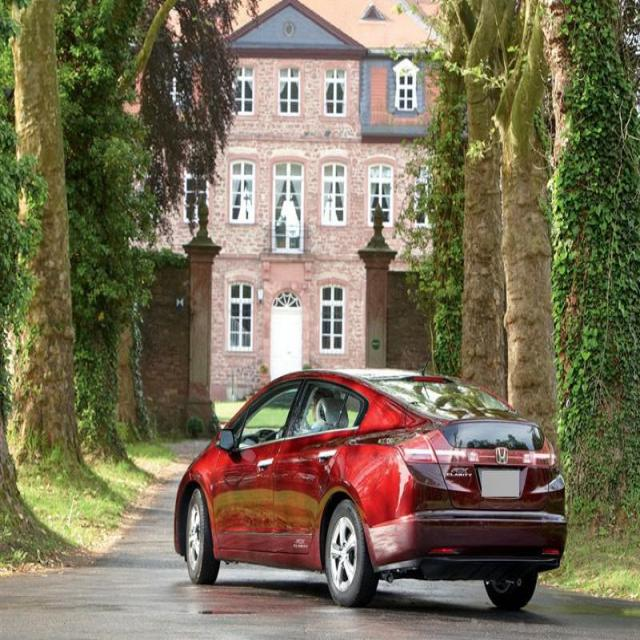back_glass: (364, 377, 518, 419)
back_left_side_light: (394, 432, 440, 468)
back_right_side_light: (532, 432, 561, 474)
front_left_side_door: (213, 376, 306, 551)
front_left_side_mirror: (215, 428, 239, 454)
rear_bumper: (362, 501, 568, 570)
wheel: (325, 500, 377, 606), (186, 488, 219, 584), (484, 572, 538, 608)
